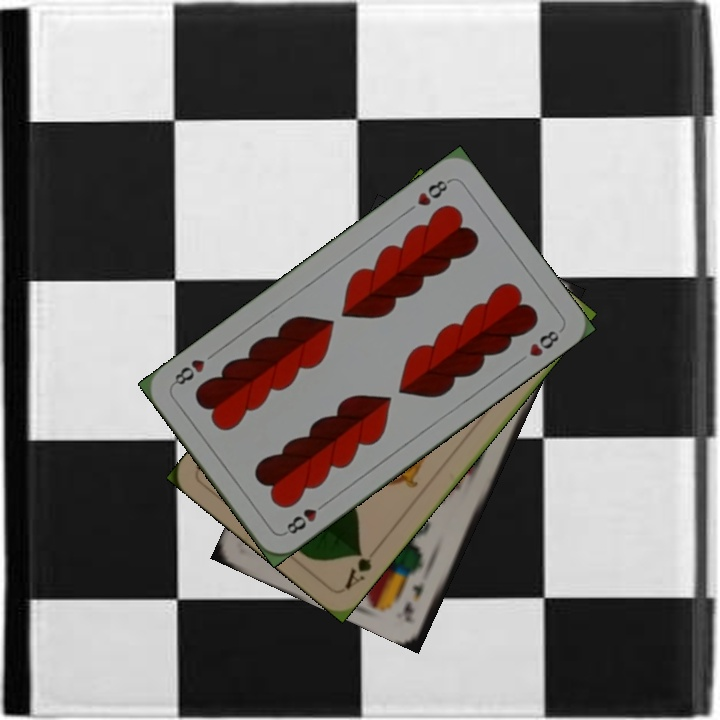EK: (399, 577, 426, 618)
GA: (340, 547, 375, 592)
H8: (280, 497, 331, 537), (413, 175, 453, 209)
